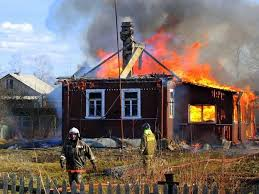fire: (98, 37, 253, 133)
